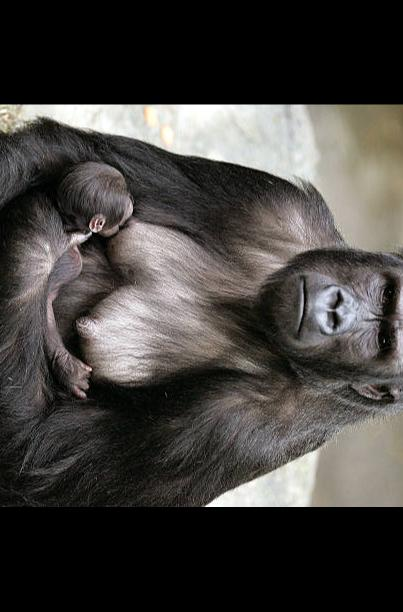gorille_Autres: (142, 130, 403, 481)
